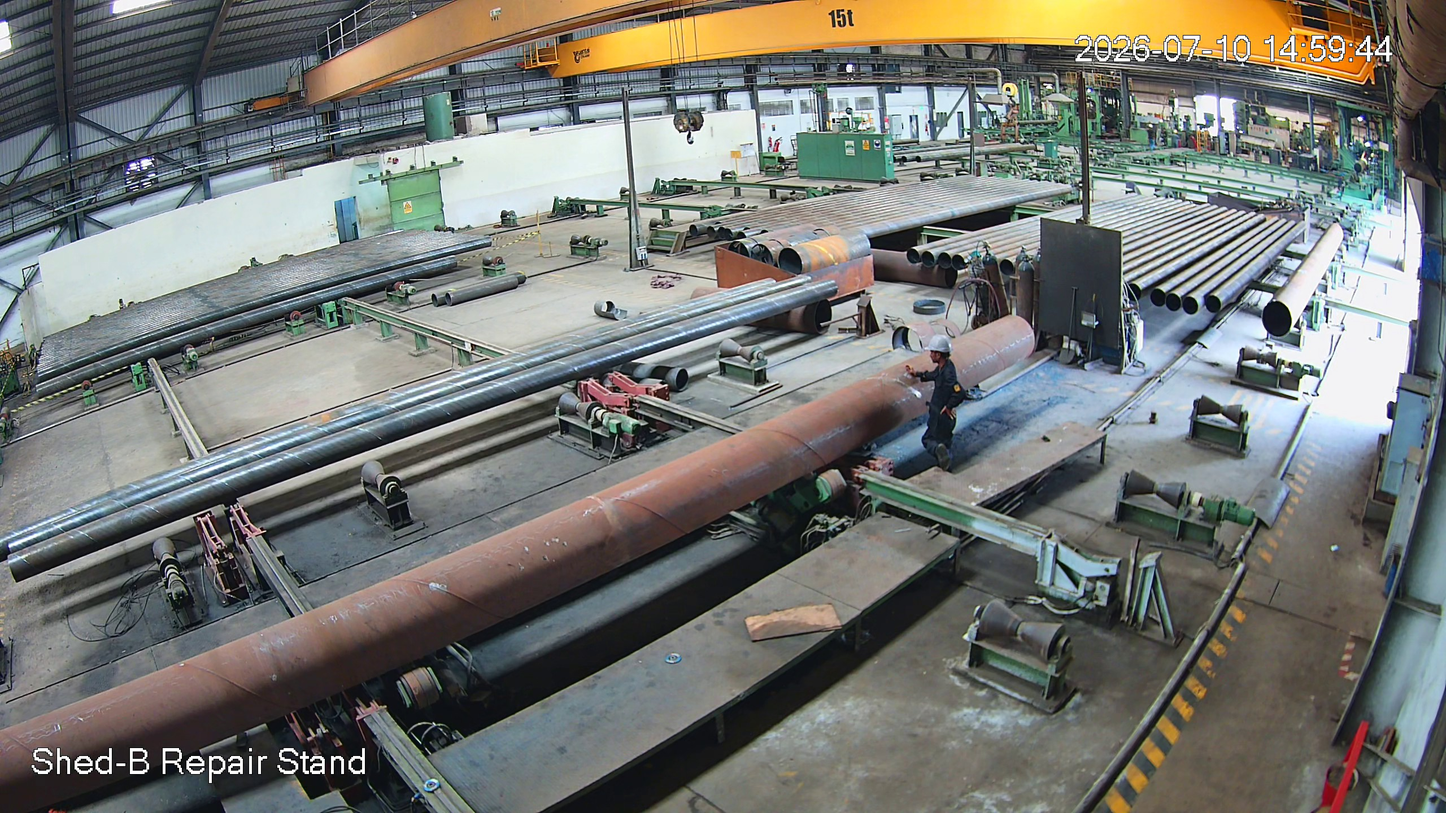Helmet: (920, 331, 965, 383)
Person: (911, 333, 962, 466)
